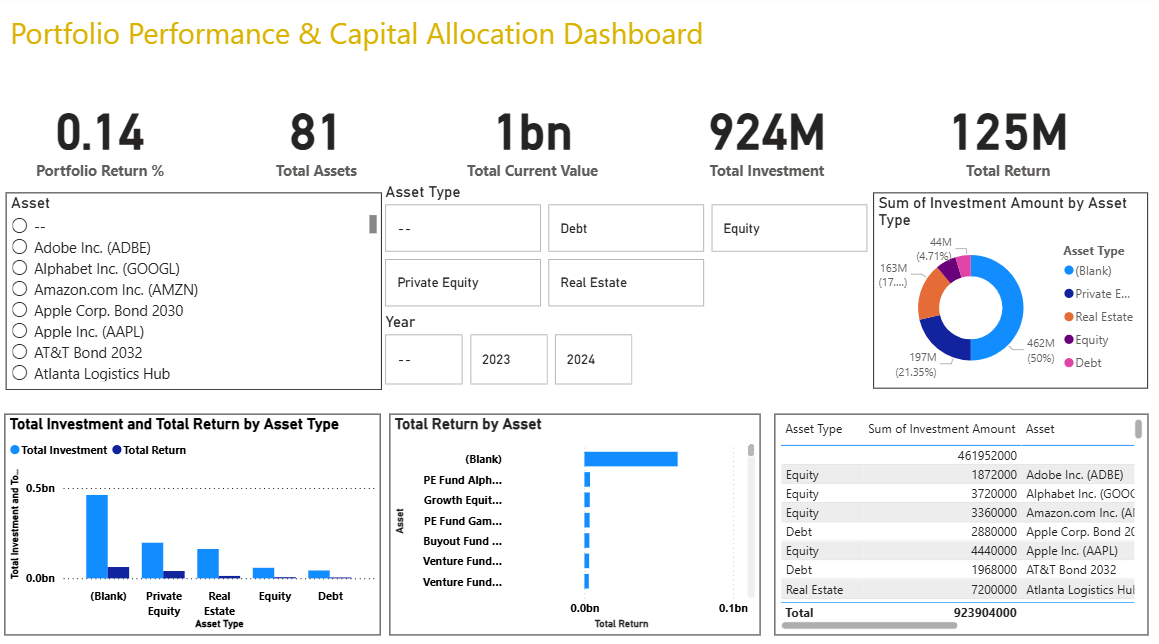

The dashboard page shown, as its layout file describes it:
{"tool":"powerbi","page":{"name":"Page 1","canvas":[1280,720],"ordinal":0},"visuals":[{"type":"card","fields":{"Values":["Portfolio_Data.Total Investment"]},"box":[728.6,101.5,233.3,104.3],"z":0},{"type":"card","fields":{"Values":["Portfolio_Data.Total Return"]},"box":[988,101.5,244.3,104.3],"z":1000},{"type":"card","fields":{"Values":["Portfolio_Data.Portfolio Return %"]},"box":[9.6,101.5,207.2,104.3],"z":2000},{"type":"card","fields":{"Values":["Portfolio_Data.Total Assets"]},"box":[238.8,101.5,223.7,104.3],"z":3000},{"type":"card","fields":{"Values":["Portfolio_Data.Total Current Value"]},"box":[462.4,101.5,251.1,104.3],"z":4000},{"type":"advancedSlicerVisual","fields":{"Values":["Portfolio_Data.Year"]},"box":[421.3,348.5,281.3,85.1],"z":5000},{"type":"advancedSlicerVisual","fields":{"Values":["Portfolio_Data.Asset Type"]},"box":[421.3,205.8,540.7,142.7],"z":6000},{"type":"listSlicer","fields":{"Values":["Portfolio_Data.Asset"]},"box":[9.6,216.8,413,216.8],"z":7000},{"type":"donutChart","fields":{"Category":["Portfolio_Data.Asset Type"],"Y":["Sum(Portfolio_Data.Investment Amount)"]},"box":[961.9,216.8,301.9,215.4],"z":8000},{"type":"clusteredColumnChart","fields":{"Category":["Portfolio_Data.Asset Type"],"Y":["Portfolio_Data.Total Investment","Portfolio_Data.Total Return"]},"box":[8.2,459.7,413,242.9],"z":9000},{"type":"barChart","fields":{"Category":["Portfolio_Data.Asset"],"Y":["Portfolio_Data.Total Return"]},"box":[430.9,459.7,407.5,242.9],"z":10000},{"type":"tableEx","fields":{"Values":["Portfolio_Data.Asset Type","Sum(Portfolio_Data.Investment Amount)","Portfolio_Data.Asset","Sum(Portfolio_Data.Current Value)","Sum(Portfolio_Data.Return)","Sum(Portfolio_Data.Return %)"]},"box":[853.5,459.7,410.3,242.9],"z":11000},{"type":"textbox","box":[9.6,15.1,787.7,75.5],"z":12000}]}

Visuals, with their boxes in screenshot pixels (x1, y1, x2, y2), scaled from the page's 1280x720 canvas onto the 1159x644 screenshot:
card - Portfolio_Data.Total Investment: x1=660, y1=91, x2=871, y2=184
card - Portfolio_Data.Total Return: x1=895, y1=91, x2=1116, y2=184
card - Portfolio_Data.Portfolio Return %: x1=9, y1=91, x2=196, y2=184
card - Portfolio_Data.Total Assets: x1=216, y1=91, x2=419, y2=184
card - Portfolio_Data.Total Current Value: x1=419, y1=91, x2=646, y2=184
advancedSlicerVisual - Portfolio_Data.Year: x1=381, y1=312, x2=636, y2=388
advancedSlicerVisual - Portfolio_Data.Asset Type: x1=381, y1=184, x2=871, y2=312
listSlicer - Portfolio_Data.Asset: x1=9, y1=194, x2=383, y2=388
donutChart - Portfolio_Data.Asset Type x Sum(Portfolio_Data.Investment Amount): x1=871, y1=194, x2=1144, y2=387
clusteredColumnChart - Portfolio_Data.Asset Type x Portfolio_Data.Total Investment: x1=7, y1=411, x2=381, y2=628
barChart - Portfolio_Data.Asset x Portfolio_Data.Total Return: x1=390, y1=411, x2=759, y2=628
tableEx - Portfolio_Data.Asset Type x Sum(Portfolio_Data.Investment Amount): x1=773, y1=411, x2=1144, y2=628
textbox: x1=9, y1=14, x2=722, y2=81
